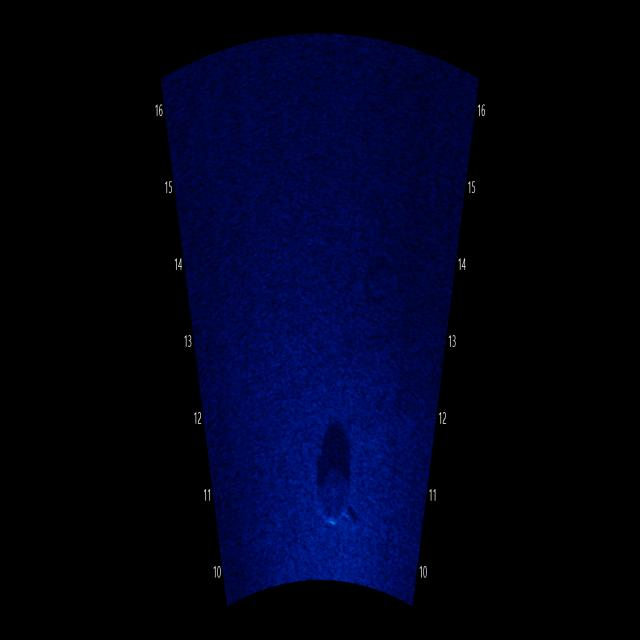circle: (313, 459, 362, 535)
